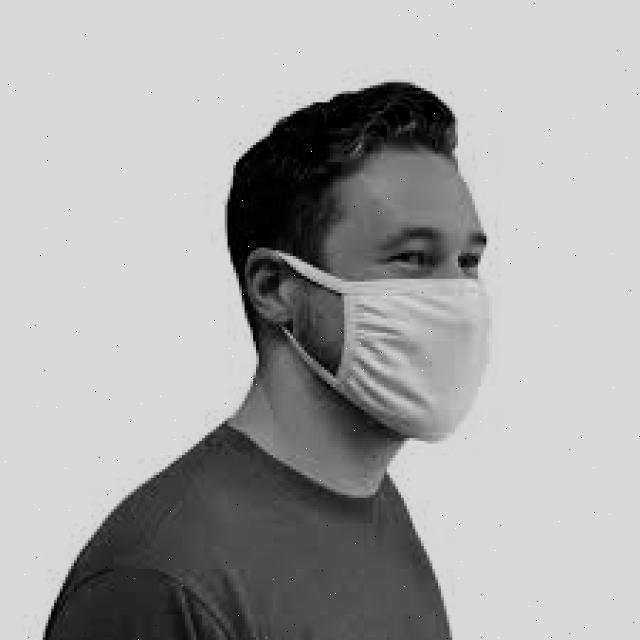fake: (319, 277, 497, 445)
real: (309, 155, 495, 455)
